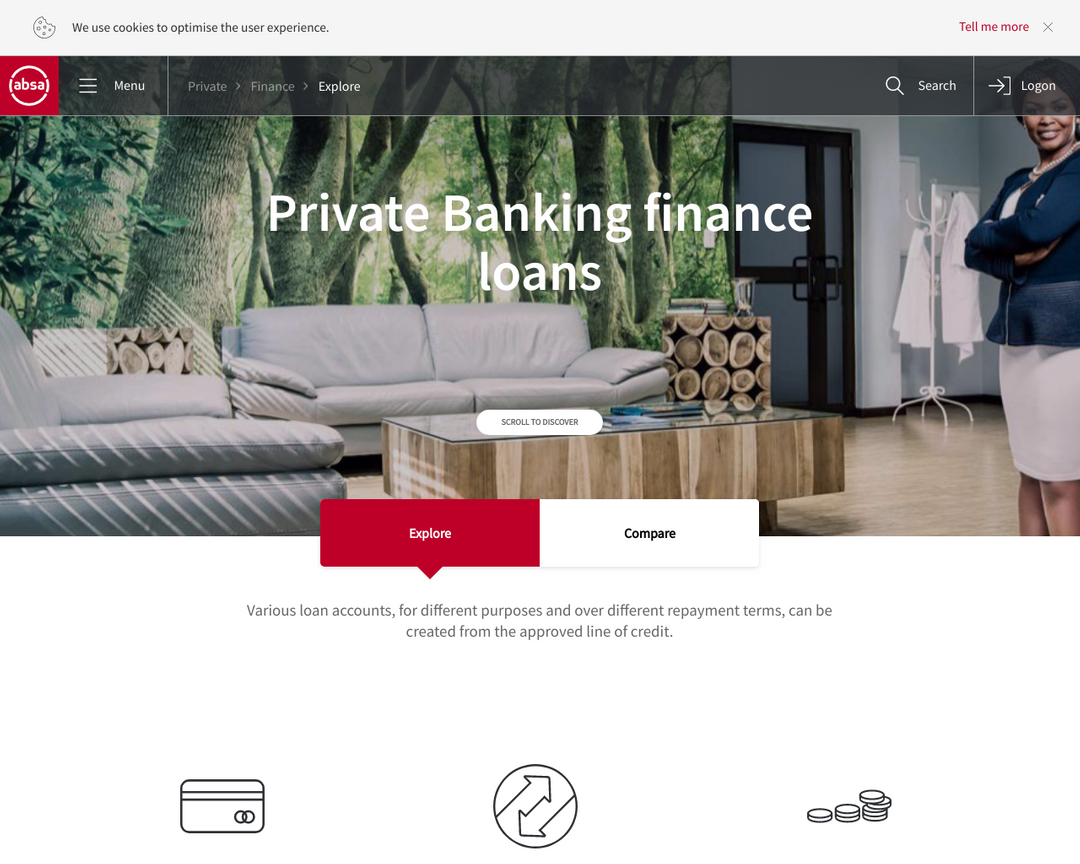ABSA: (5, 65, 52, 108)
